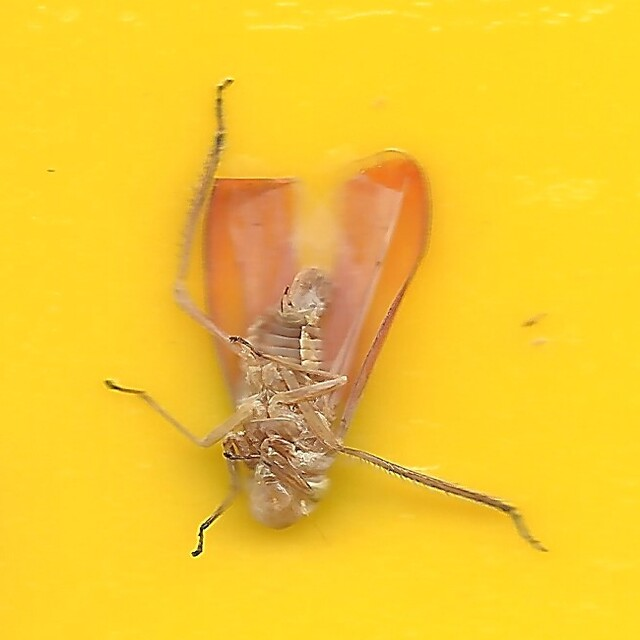Hemiptera: (98, 80, 542, 560)
